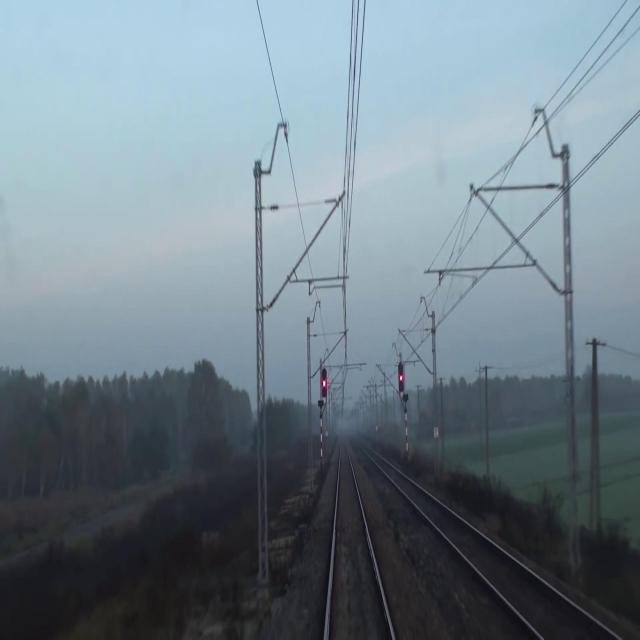rail-track: (383, 464, 612, 639), (328, 444, 390, 639)
